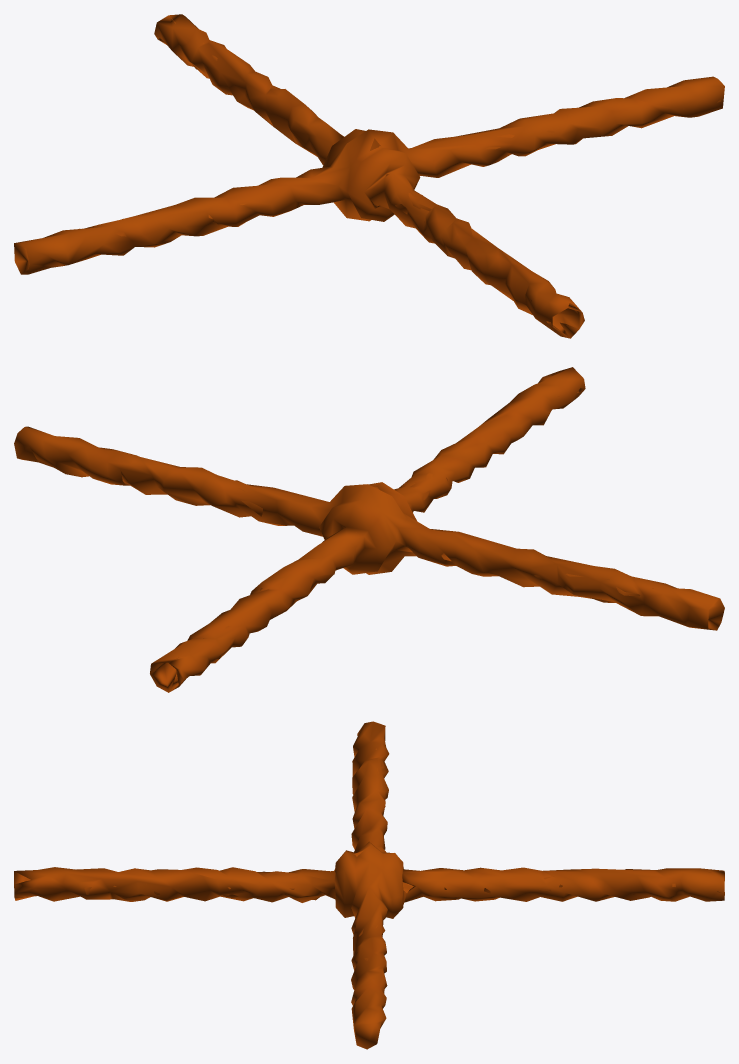
Rendered from gen3d-rope-lod1.glb.
3 renders of one model, top to bottom at view 1: azimuth 30°, elevation 25°; view 2: azimuth 150°, elevation 25°; view 3: azimuth 270°, elevation 25°, orthographic. The views are drawn at different scales.
Visible parts, largest first — view 1: part_0; view 2: part_0; view 3: part_0.
Boxes of the visible parts, bbox=[...] form: part_0: bbox=[14, 14, 724, 338]; part_0: bbox=[14, 367, 724, 692]; part_0: bbox=[14, 721, 724, 1049].
Size of the model in its own units: 7.89 by 0.9897 by 7.89.
